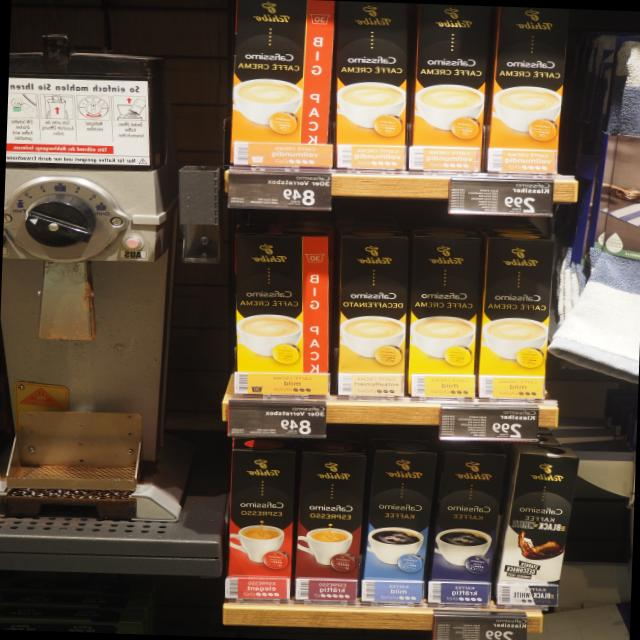Simo CCMild: (233, 223, 330, 396)
Simo CCMild bigpack: (404, 229, 484, 399), (478, 232, 554, 400)
Simo CCVollmundig: (227, 0, 337, 167)
Simo CCVollmundig bigpack: (483, 6, 569, 176), (409, 3, 493, 173), (335, 1, 415, 172)
Simo Decaff: (331, 228, 412, 398)
Simo Es Elegant: (223, 448, 299, 601)
Simo Es Kraft: (292, 450, 368, 603)
Simo Kaffee BW: (491, 443, 582, 606)
Simo Kaffee Kraft: (425, 451, 507, 606)
Simo Kaffee Mild: (358, 447, 439, 603)
